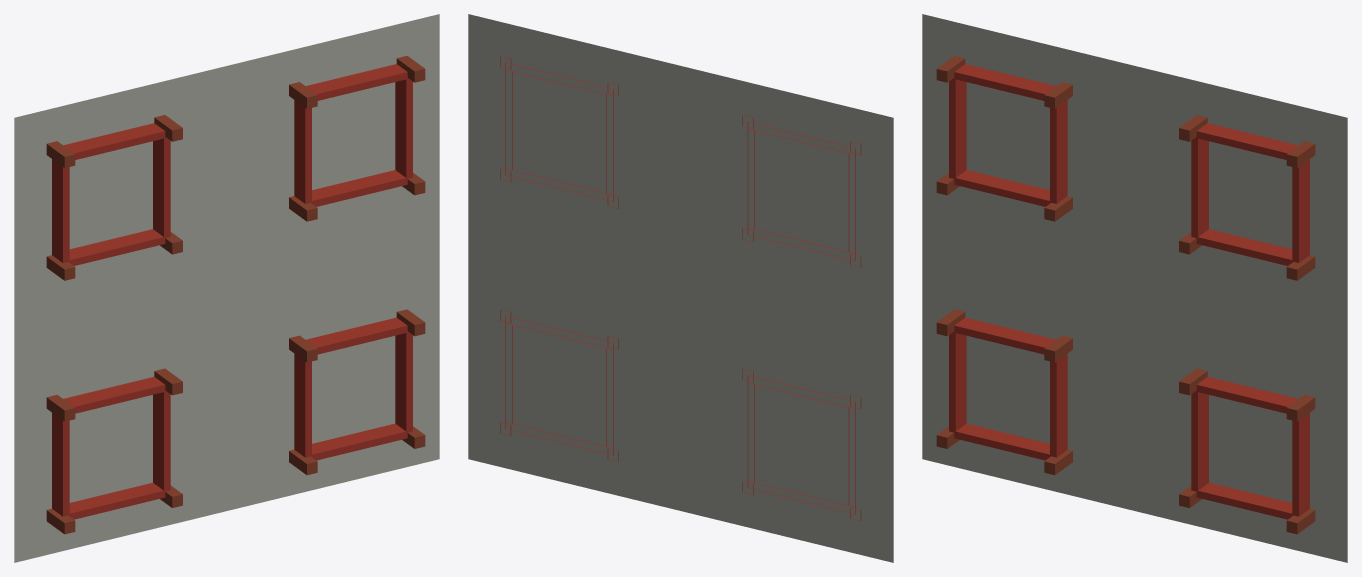
File: construction_0.glb
The picture shows the model from 3 angles, left to right: view 1: azimuth 30°, elevation 25°; view 2: azimuth 150°, elevation 25°; view 3: azimuth 330°, elevation 25°; orthographic projection.
Visible parts, largest first — view 1: construction_0; view 2: construction_0; view 3: construction_0.
Part boxes in pixels (box(x1,y1,x2,y2)): construction_0: box(14, 14, 439, 562); construction_0: box(468, 14, 893, 562); construction_0: box(922, 14, 1347, 562).
Size of the model in its own units: 31.6 by 31.6 by 2.4.
